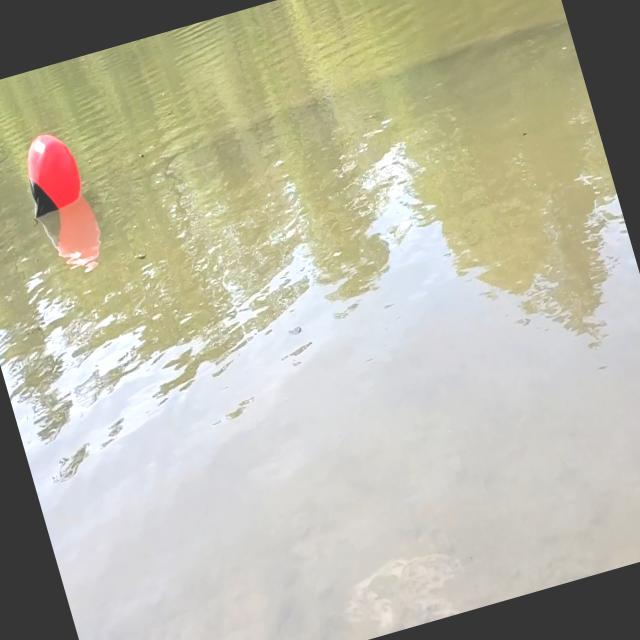buoy: (11, 125, 88, 221)
